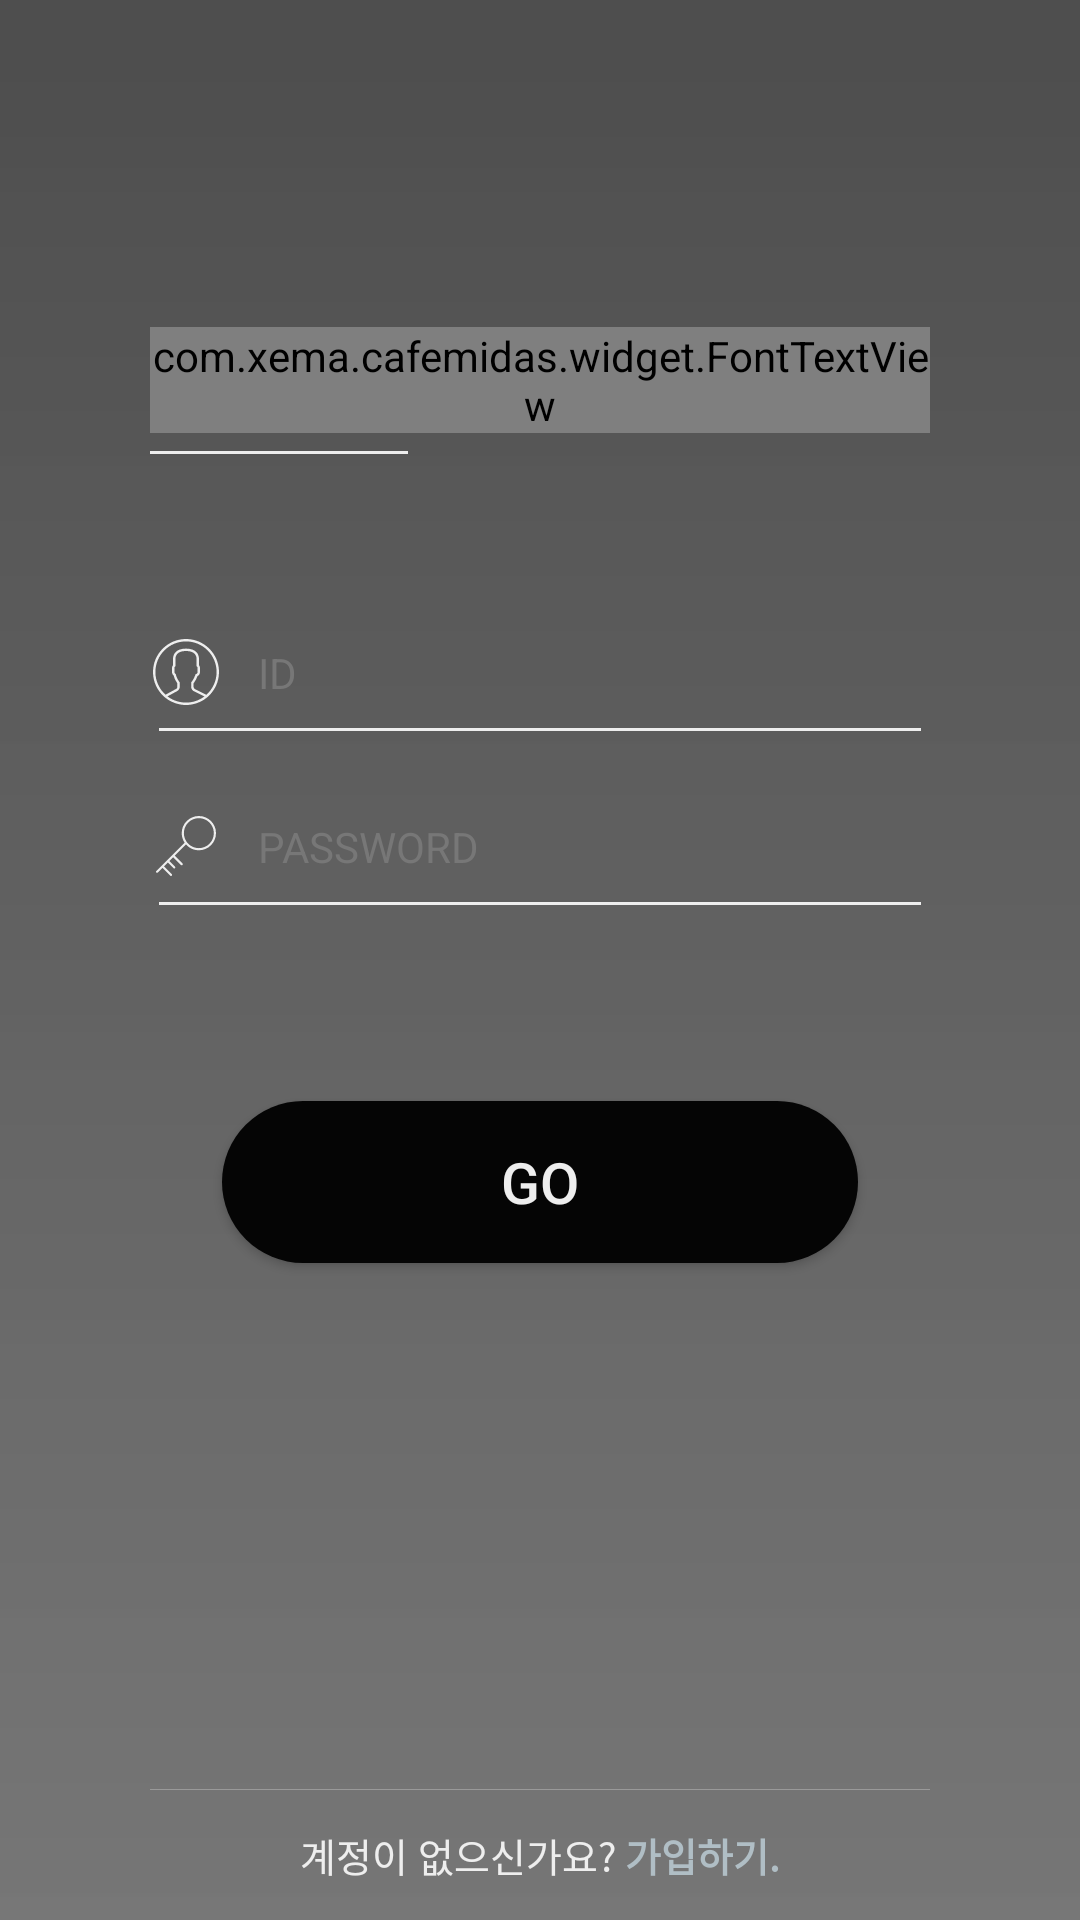

Icons on this 1080px x 1920px Android screen, each with its box as (x1, y1, x2, y2):
key: (156, 816, 216, 876)
user: (153, 639, 219, 705)
